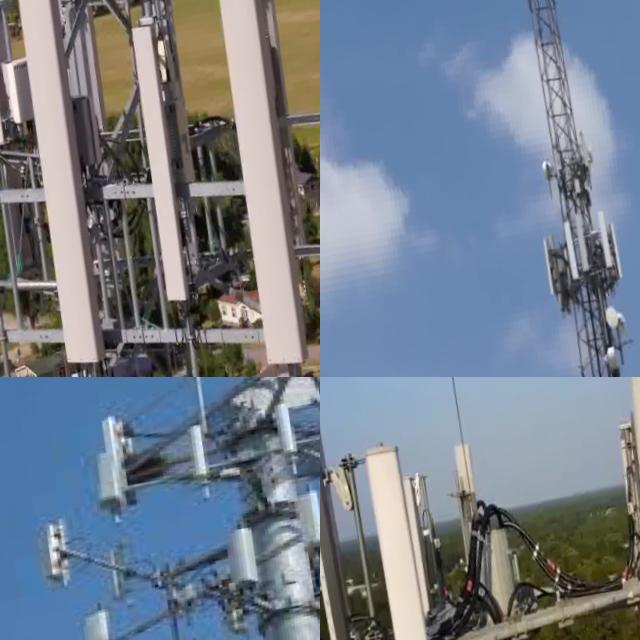GSM Antenna: (0, 0, 128, 368), (201, 0, 320, 372), (345, 425, 495, 640), (115, 7, 216, 326), (34, 0, 135, 281), (320, 394, 413, 640), (212, 0, 311, 200), (0, 0, 51, 227), (606, 377, 640, 640), (0, 25, 20, 320), (89, 408, 147, 509), (224, 522, 270, 604), (179, 424, 225, 497), (27, 513, 71, 585), (285, 476, 320, 554), (540, 229, 571, 309), (605, 209, 633, 288), (594, 209, 621, 286), (560, 214, 588, 287), (72, 603, 124, 640), (572, 209, 598, 278)
Microwave Antenna: (604, 345, 626, 373), (541, 155, 559, 187), (617, 308, 633, 334), (607, 305, 624, 329), (588, 144, 602, 169)
